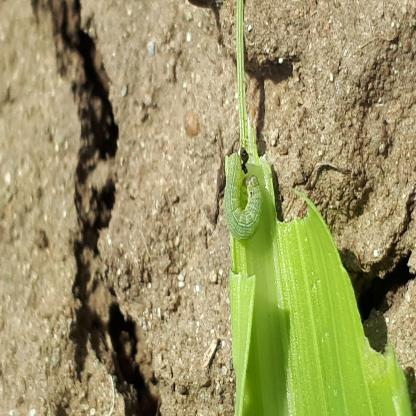armyworm: (100, 391, 149, 416)
